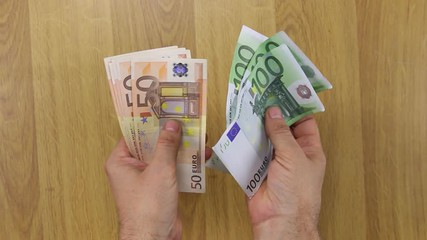billete: (206, 23, 334, 202), (103, 44, 207, 196)
